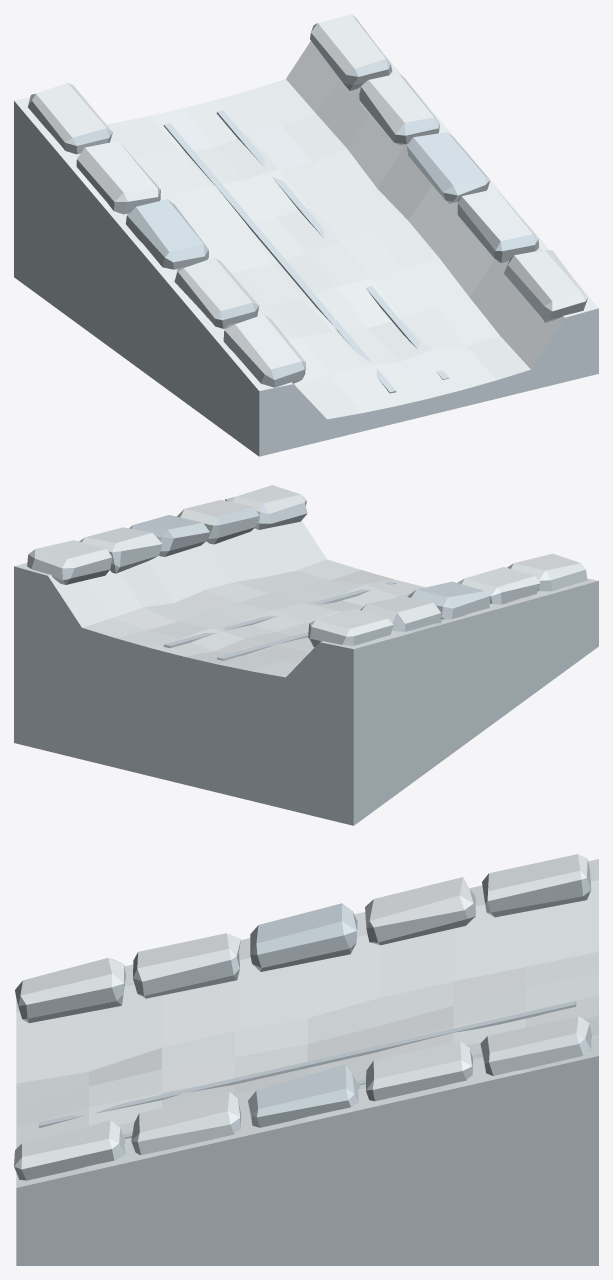
The model's file is slope_section.glb.
3 renders of one model, top to bottom at view 1: azimuth 30°, elevation 25°; view 2: azimuth 150°, elevation 25°; view 3: azimuth 270°, elevation 25°, orthographic. The views are drawn at different scales.
Visible parts, largest first — view 1: slope_section; view 2: slope_section; view 3: slope_section.
Part boxes in pixels (x1,y1,x2,y2): slope_section: [14, 14, 598, 456]; slope_section: [14, 485, 598, 825]; slope_section: [14, 854, 598, 1265].
Bounding box in the file's own units: 3.2 × 1.71 × 4.02.
